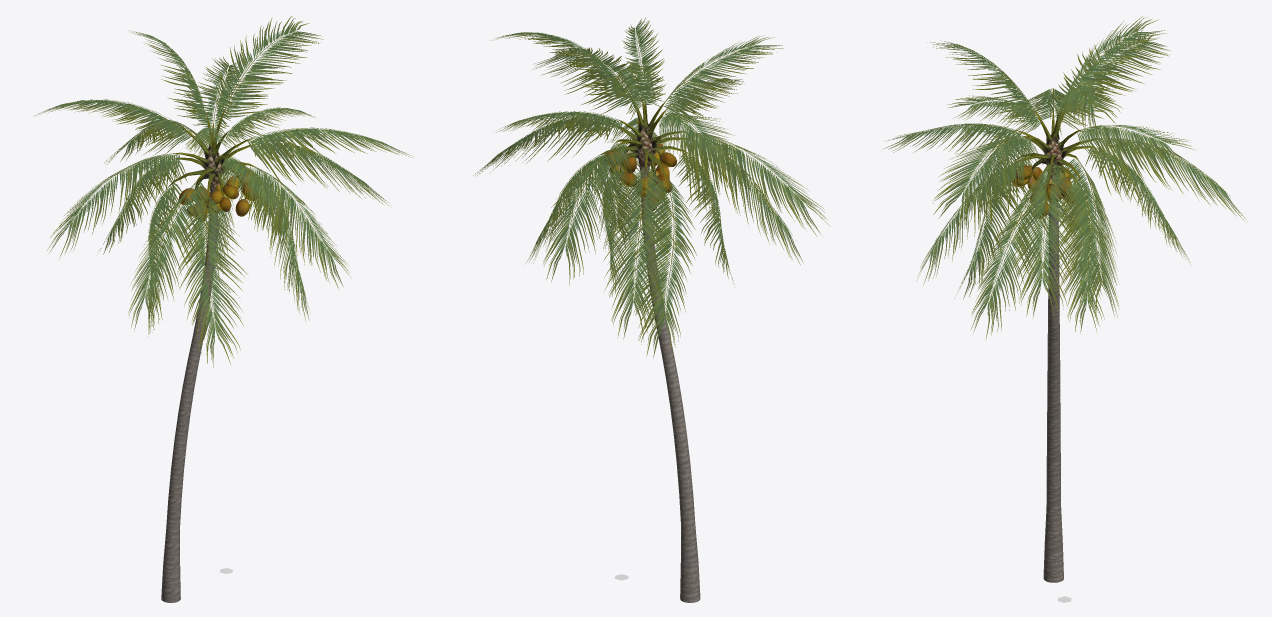
Rendered from CoconutTree0.fbx.
3 views of the same model, side by side, from view 1: azimuth 30°, elevation 25°; view 2: azimuth 150°, elevation 25°; view 3: azimuth 270°, elevation 25° (orthographic). The views are drawn at different scales.
Visible parts, largest first — view 1: polySurface7, polySurface113, polySurface37, polySurface15, polySurface23, polySurface17, polySurface27, polySurface19, polySurface31, polySurface9, polySurface25, polySurface13 (+7 smaller); view 2: polySurface13, polySurface5, polySurface113, polySurface21, polySurface23, polySurface33, polySurface15, polySurface31, polySurface37, polySurface27, polySurface7, polySurface19 (+7 smaller); view 3: polySurface19, polySurface113, polySurface11, polySurface9, polySurface27, polySurface21, polySurface17, polySurface38, polySurface5, polySurface31, polySurface29, polySurface13 (+8 smaller).
Boxes of the visible parts, left/top/right/bottom form: polySurface7: left=177, top=197, right=247, bottom=367; polySurface113: left=161, top=192, right=218, bottom=602; polySurface37: left=213, top=16, right=323, bottom=117; polySurface15: left=128, top=181, right=215, bottom=334; polySurface23: left=47, top=153, right=179, bottom=258; polySurface17: left=248, top=166, right=351, bottom=288; polySurface27: left=248, top=127, right=411, bottom=170; polySurface19: left=252, top=142, right=389, bottom=205; polySurface31: left=34, top=99, right=186, bottom=145; polySurface9: left=248, top=175, right=309, bottom=320; polySurface25: left=220, top=157, right=296, bottom=222; polySurface13: left=98, top=159, right=187, bottom=254; polySurface13: left=603, top=166, right=679, bottom=339; polySurface5: left=626, top=179, right=696, bottom=357; polySurface113: left=640, top=173, right=700, bottom=602; polySurface21: left=543, top=144, right=633, bottom=285; polySurface23: left=681, top=132, right=830, bottom=235; polySurface33: left=664, top=35, right=783, bottom=114; polySurface15: left=689, top=142, right=803, bottom=264; polySurface31: left=659, top=113, right=740, bottom=179; polySurface37: left=495, top=32, right=629, bottom=101; polySurface27: left=534, top=47, right=655, bottom=114; polySurface7: left=673, top=153, right=734, bottom=284; polySurface19: left=473, top=118, right=609, bottom=175; polySurface19: left=1008, top=163, right=1088, bottom=318; polySurface113: left=1043, top=200, right=1063, bottom=582; polySurface11: left=1055, top=176, right=1113, bottom=332; polySurface9: left=971, top=183, right=1055, bottom=340; polySurface27: left=933, top=136, right=1031, bottom=227; polySurface21: left=1097, top=138, right=1247, bottom=221; polySurface17: left=919, top=161, right=1024, bottom=284; polySurface38: left=1063, top=16, right=1166, bottom=112; polySurface5: left=1059, top=158, right=1118, bottom=317; polySurface31: left=1056, top=30, right=1170, bottom=118; polySurface29: left=1077, top=125, right=1195, bottom=162; polySurface13: left=1085, top=148, right=1190, bottom=262.
Size of the model in its own units: 434 by 628 by 392.
